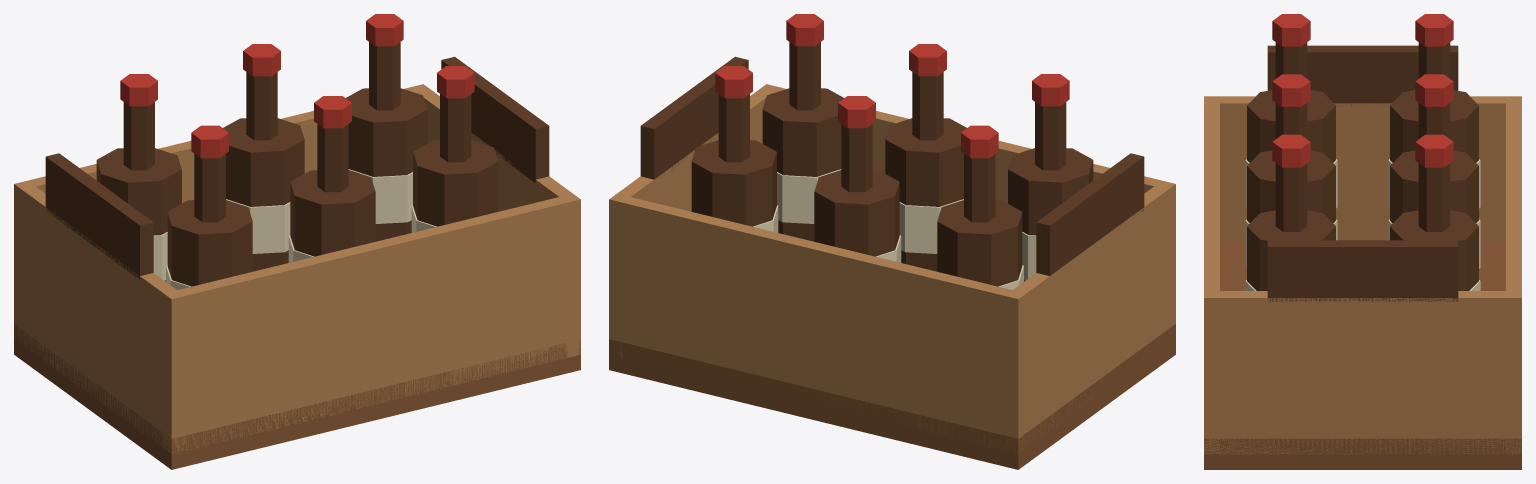
Rendered from SassparillaCrate.fbx.
3 renders of one model, left to right at view 1: azimuth 30°, elevation 25°; view 2: azimuth 150°, elevation 25°; view 3: azimuth 270°, elevation 25°, orthographic.
Visible parts, largest first — view 1: SassparillaCrate; view 2: SassparillaCrate; view 3: SassparillaCrate.
Part boxes in pixels (x1,y1,x2,y2): SassparillaCrate: (14, 14, 580, 469); SassparillaCrate: (609, 14, 1175, 469); SassparillaCrate: (1204, 14, 1521, 469).
Bounding box in the file's own units: 3 × 2 × 2.
